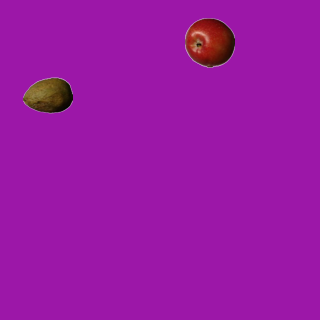Apple Braeburn: (184, 17, 234, 67)
Papaya: (22, 70, 72, 120)
